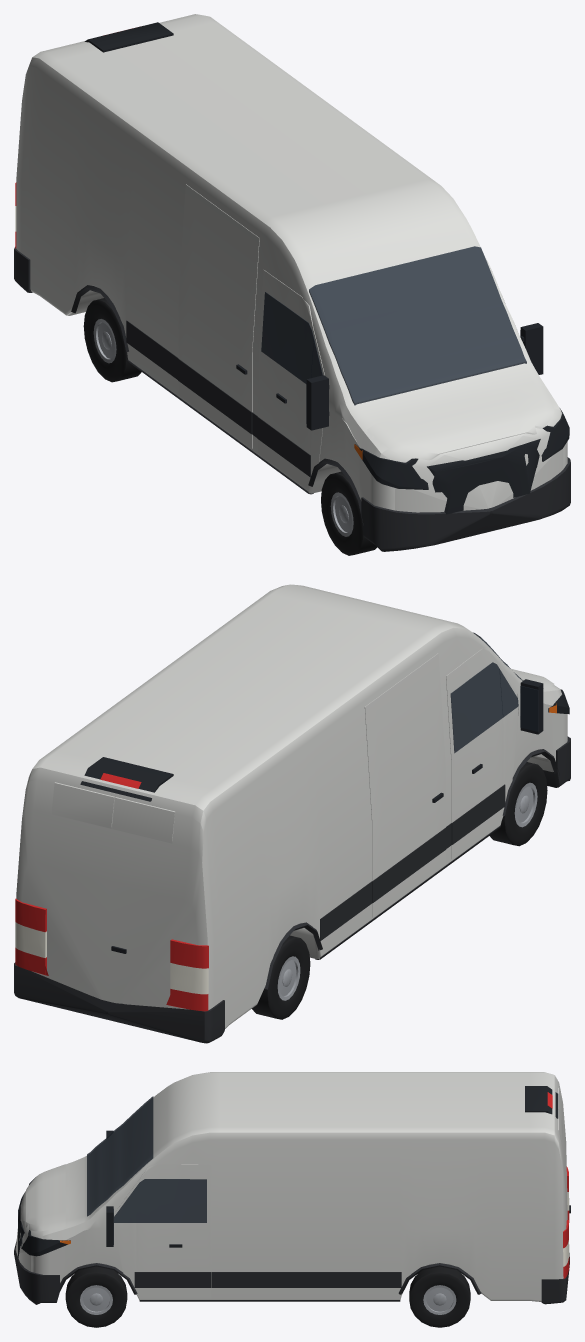
The model's file is camper-sprinter_170_high.glb.
The picture shows the model from 3 angles, top to bottom: view 1: azimuth 30°, elevation 25°; view 2: azimuth 150°, elevation 25°; view 3: azimuth 270°, elevation 25°; orthographic projection. The views are drawn at different scales.
Visible parts, largest first — view 1: traveler_camper_parked, sliding_door, front_door_right, hood, rear_right_wheel, front_right_wheel, front_door_left; view 2: traveler_camper_parked, sliding_door, front_door_right, rear_right_wheel, front_right_wheel, rear_door_right, rear_door_left; view 3: traveler_camper_parked, front_door_left, rear_left_wheel, front_left_wheel, hood.
Part boxes in pixels (box(x1,y1,x2,y2)): traveler_camper_parked: box(14, 14, 570, 551); sliding_door: box(178, 184, 259, 448); front_door_right: box(257, 270, 329, 488); hood: box(367, 384, 554, 460); rear_right_wheel: box(83, 298, 141, 382); front_right_wheel: box(321, 471, 377, 555); front_door_left: box(486, 258, 543, 374); traveler_camper_parked: box(14, 584, 570, 1043); sliding_door: box(364, 653, 446, 917); front_door_right: box(446, 648, 543, 859); rear_right_wheel: box(252, 935, 310, 1019); front_right_wheel: box(489, 762, 547, 846); rear_door_right: box(111, 797, 175, 953); rear_door_left: box(52, 782, 114, 828); traveler_camper_parked: box(14, 1072, 569, 1304); front_door_left: box(106, 1164, 211, 1298); rear_left_wheel: box(409, 1266, 470, 1327); front_left_wheel: box(65, 1266, 127, 1327); hood: box(26, 1164, 65, 1231).
Bounding box in the file's own units: 2.44 × 2.74 × 7.01.
